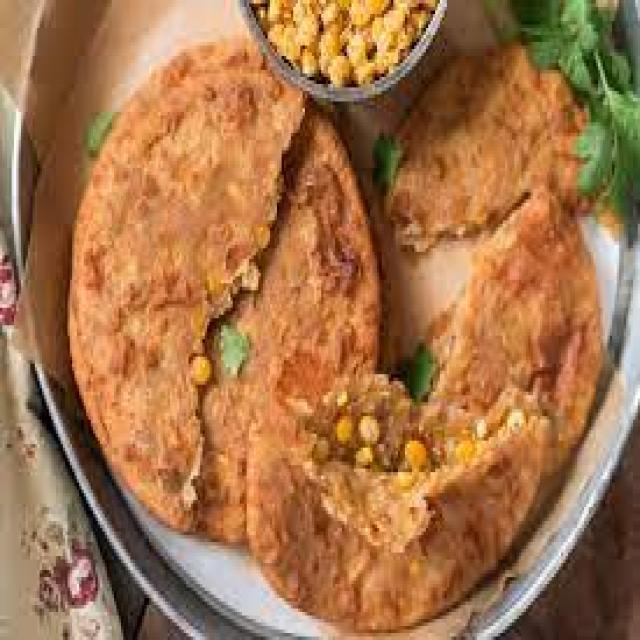CURRY: (247, 2, 441, 88)
POORI: (65, 30, 609, 630)
